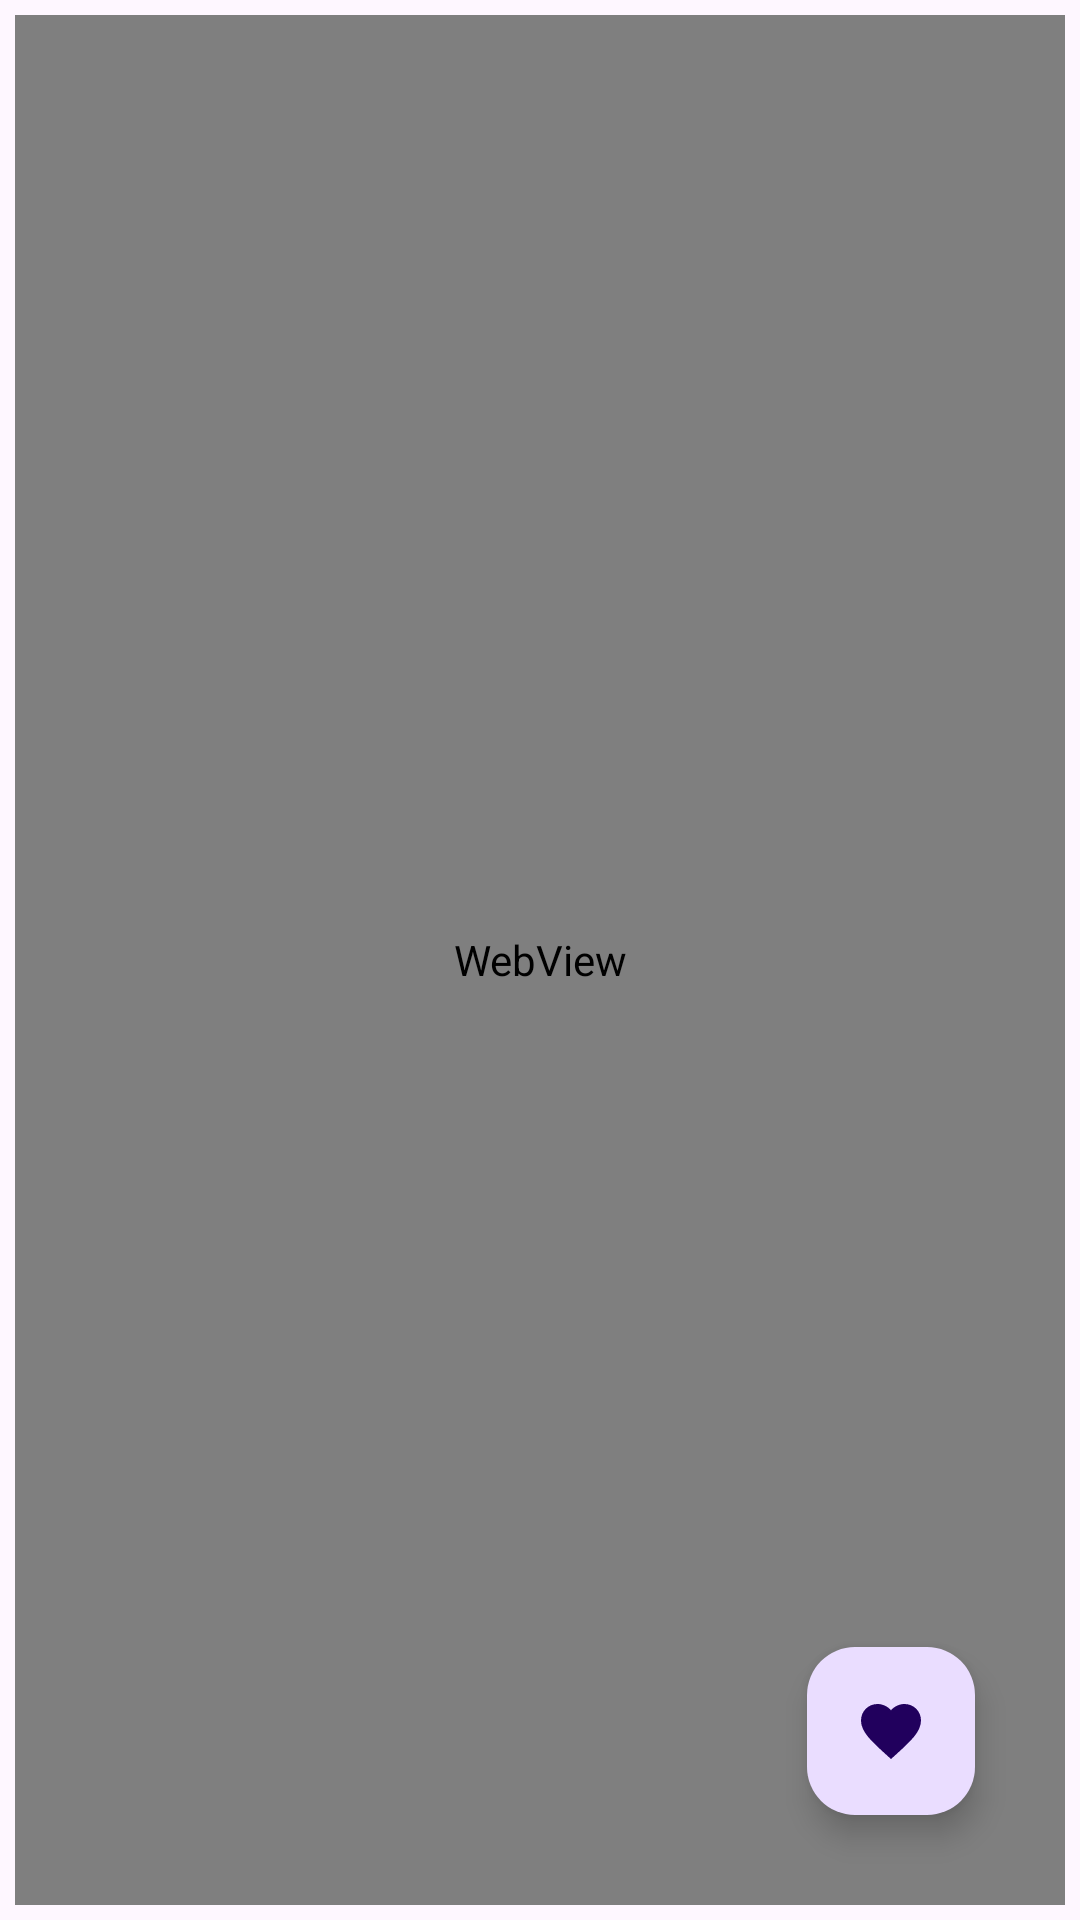

Locate icon controls on the screen. Image size 1080*1920, boxes as bbox=(x1, y1, x2, y2).
Favourite news: bbox=(807, 1647, 975, 1815)
